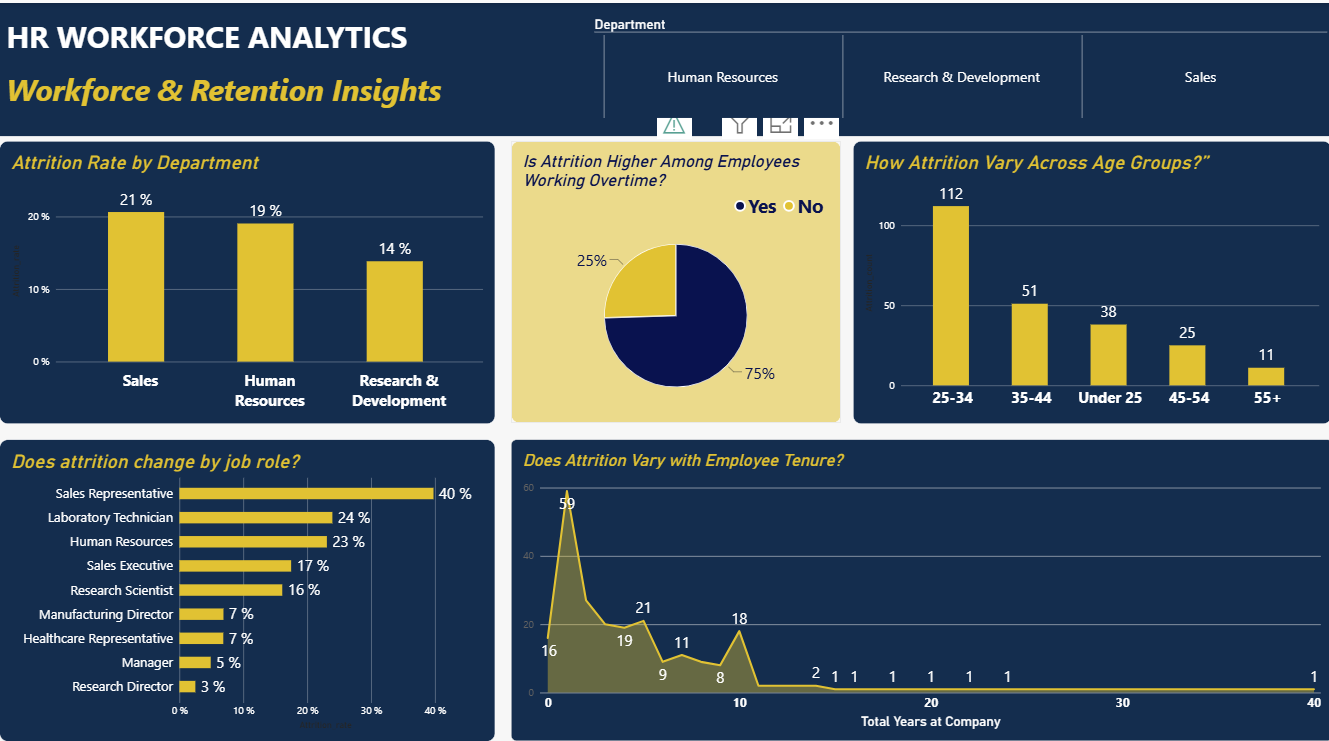

Layout of this report page (visuals, bound fields, positions):
{"tool":"powerbi","page":{"name":"Doublon de Page 1","canvas":[1920,1080],"ordinal":1},"visuals":[{"type":"textbox","box":[9.5,0,1911.1,190.9],"z":0},{"type":"clusteredBarChart","title":"Does attrition change by job role?","fields":{"Category":["Employee.JobRole"],"Y":["Measures (2).Attrition_rate"]},"box":[10,625,710,432.5],"z":7000},{"type":"pieChart","title":"Is Attrition Higher Among Employees Working Overtime?","fields":{"Category":["Employee.OverTime"],"Y":["Measures (2).Attrition_rate"]},"box":[742.5,197.5,437.5,405],"z":9000},{"type":"areaChart","title":"Does Attrition Vary with Employee Tenure?","fields":{"Category":["Employee.YearsAtCompany"],"Y":["Measures (2).Attrition_count"]},"box":[742.5,625,1140,432.5],"z":10001},{"type":"columnChart","title":"Attrition Rate by Department","fields":{"Category":["Employee.Department"],"Y":["Measures (2).Attrition_rate"]},"box":[10,197.5,710,405],"z":10002},{"type":"columnChart","title":"How Attrition Vary Across Age Groups?”","fields":{"Category":["Employee.Age Group"],"Y":["Measures (2).Attrition_count"]},"box":[1197.5,197.5,685,405],"z":10003},{"type":"slicer","fields":{"Values":["Employee.Department"]},"box":[855,20,1065,147.5],"z":10004}]}

Visuals, with their boxes in screenshot pixels (x1, y1, x2, y2), scaled from the page's 1920x1080 canvas onto the 1329x741 screenshot:
textbox: 7, 0, 1328, 131
"Does attrition change by job role?" clusteredBarChart: 7, 429, 498, 726
"Is Attrition Higher Among Employees Working Overtime?" pieChart: 514, 136, 817, 413
"Does Attrition Vary with Employee Tenure?" areaChart: 514, 429, 1303, 726
"Attrition Rate by Department" columnChart: 7, 136, 498, 413
"How Attrition Vary Across Age Groups?”" columnChart: 829, 136, 1303, 413
slicer - Employee.Department: 592, 14, 1328, 115
